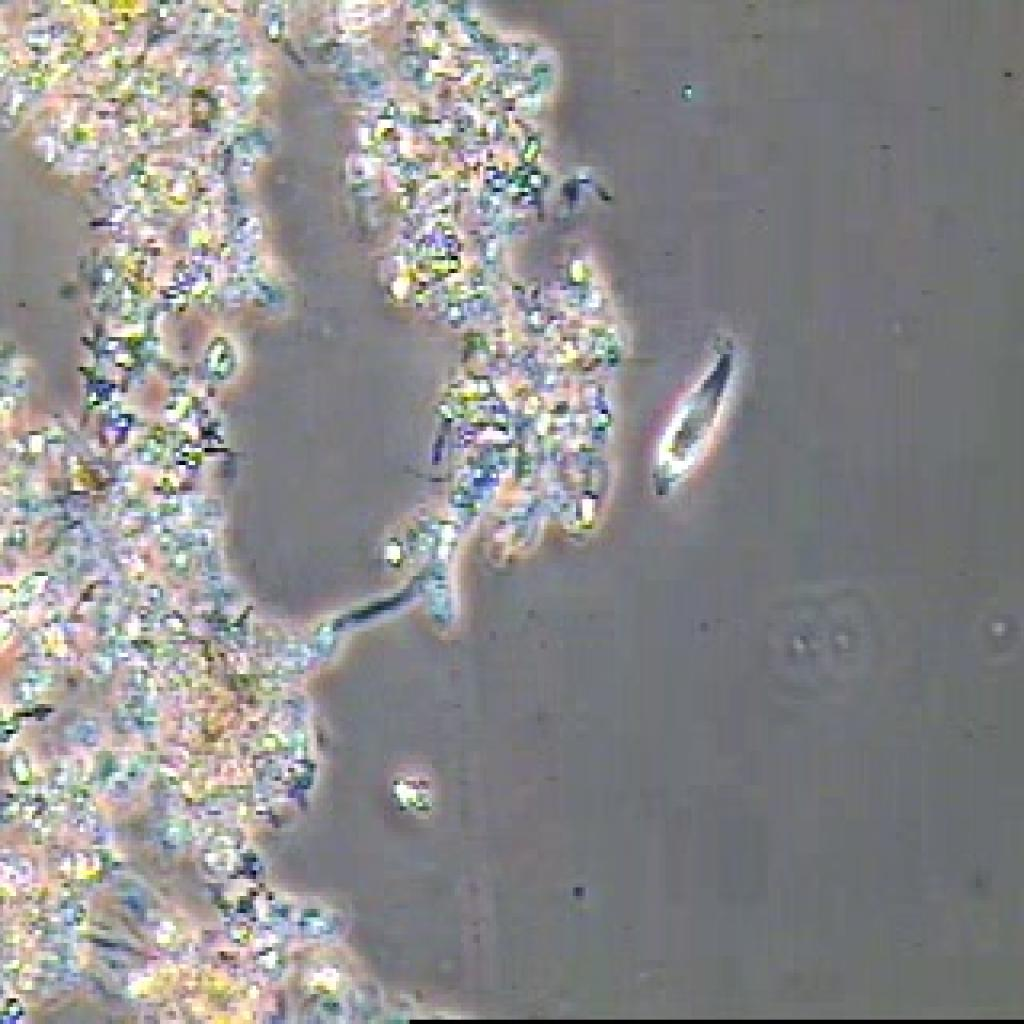Pristina: (627, 318, 778, 518)
